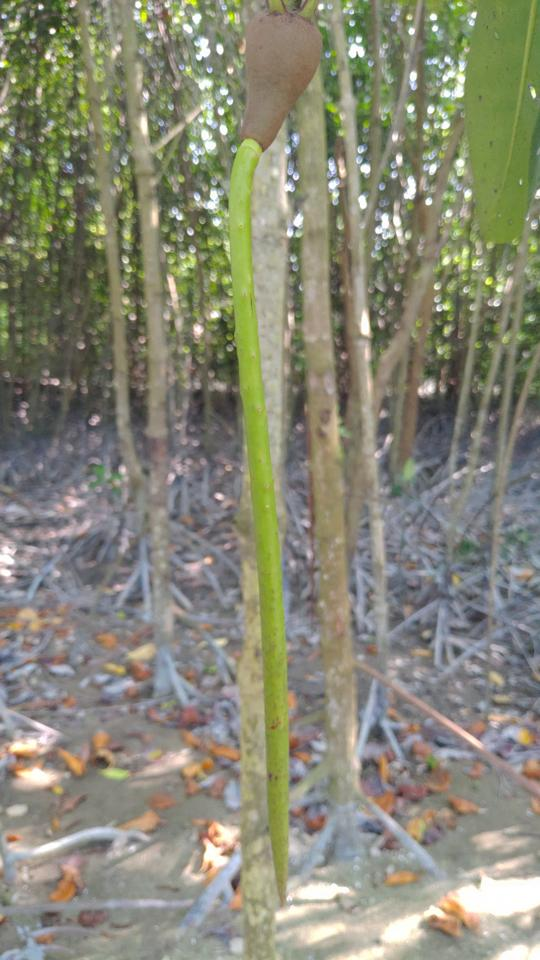setengah matang: (209, 4, 333, 911)
